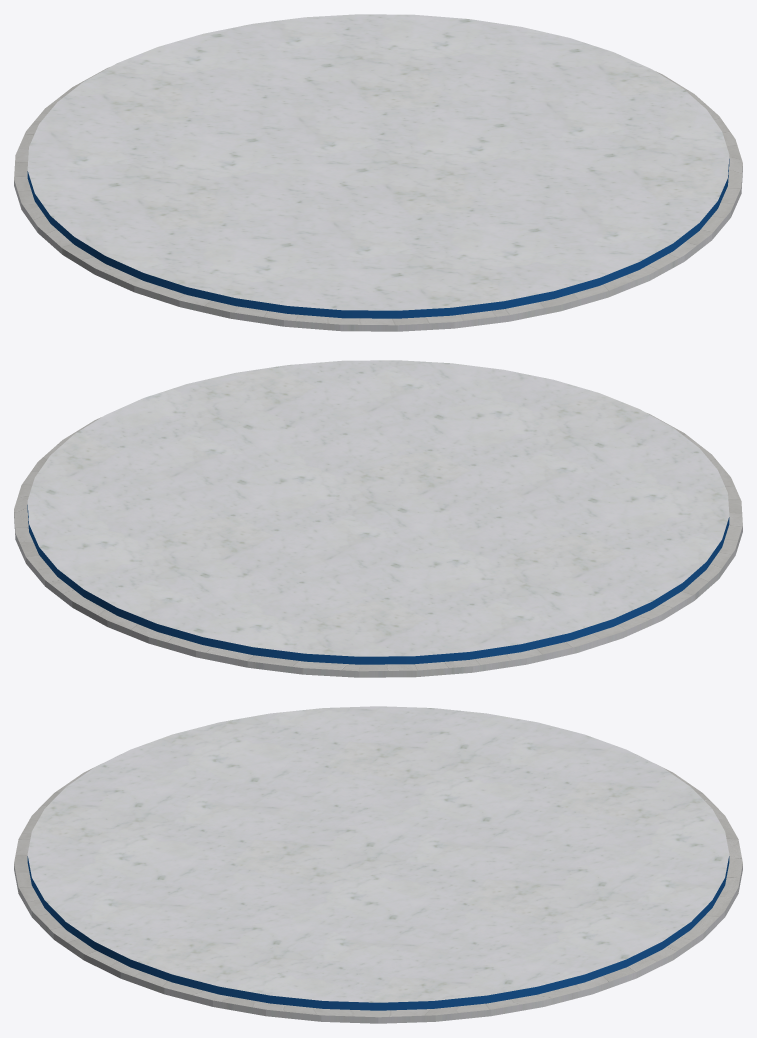
The model's file is GCircle1.fbx.
3 renders of one model, top to bottom at view 1: azimuth 30°, elevation 25°; view 2: azimuth 150°, elevation 25°; view 3: azimuth 270°, elevation 25°, orthographic.
Parts seen in each view (by area): view 1: GCircle1; view 2: GCircle1; view 3: GCircle1.
Boxes of the visible parts, box(x1,y1,x2,y2) form: GCircle1: box(14, 14, 742, 331); GCircle1: box(14, 360, 742, 677); GCircle1: box(14, 706, 742, 1023).
Bounding box in the file's own units: 11.77 × 0.2712 × 11.77.
